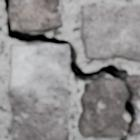brick: (9, 45, 68, 139), (81, 3, 139, 60), (9, 0, 62, 31)
broken_brick: (77, 79, 128, 138), (128, 73, 139, 113), (130, 119, 139, 136)
crack: (2, 0, 139, 139)
